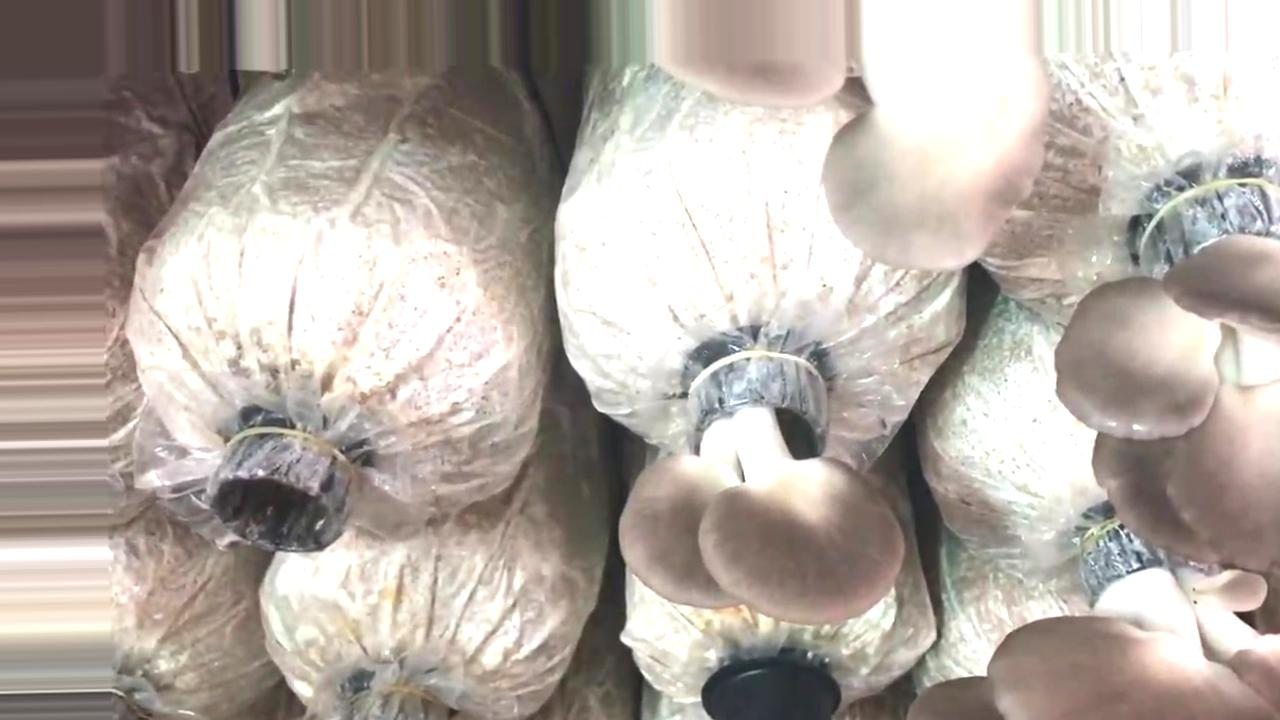nam: (1060, 177, 1280, 571), (618, 345, 906, 623), (909, 510, 1275, 720), (827, 1, 1050, 270), (653, 1, 845, 112)
